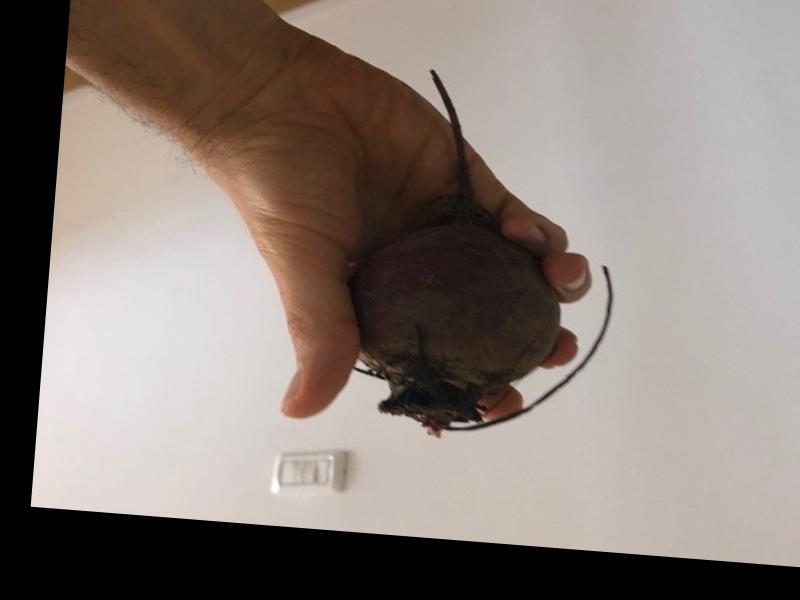Beet: (345, 65, 632, 448)
